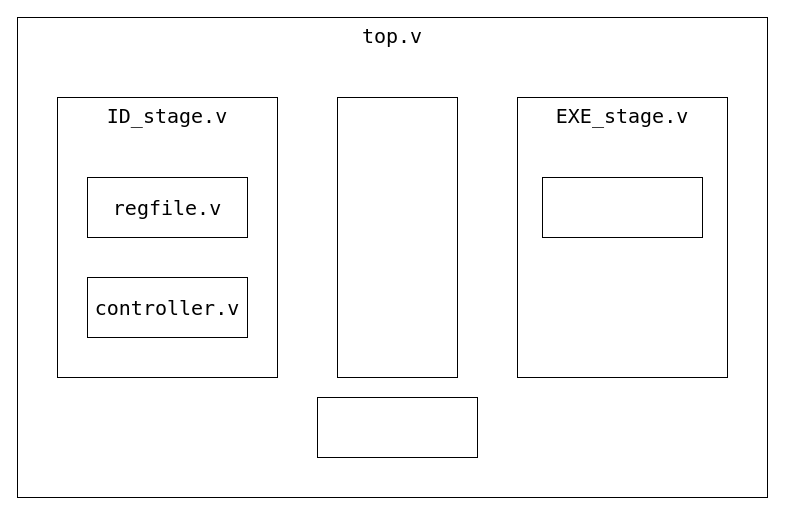
Some shapes in this 785 by 515 pixel diagram are drawn without their labels. Here are the shapes that lost their labels. From the top down, the centre of each, then its label:
the point at 622,207: alu.v
the point at 397,237: ID_EXE.v
the point at 397,427: CPU_define.v
